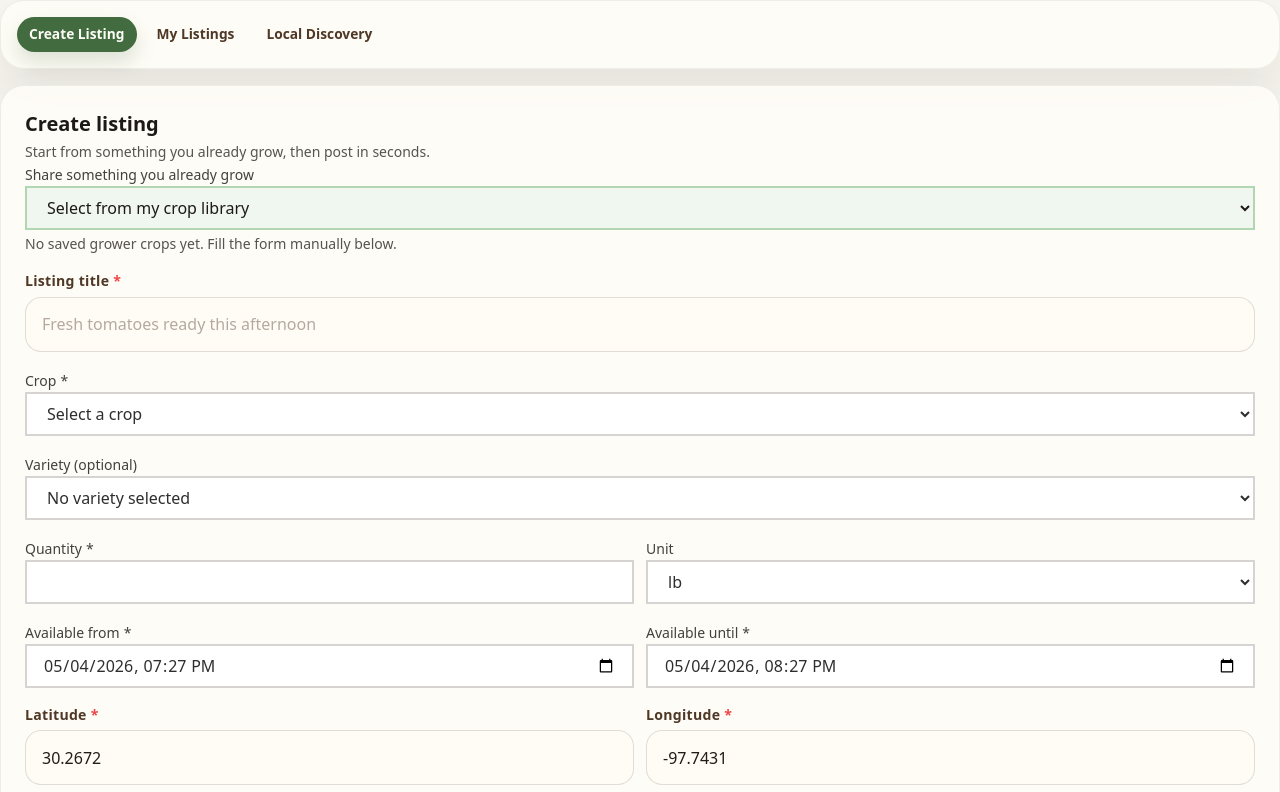
Test: GrowerListingPanel › pre-seeds edit form from selected listing while detail query is loading
Click the tab "My Listings". click: (195, 34)
box: [144,17,246,52]
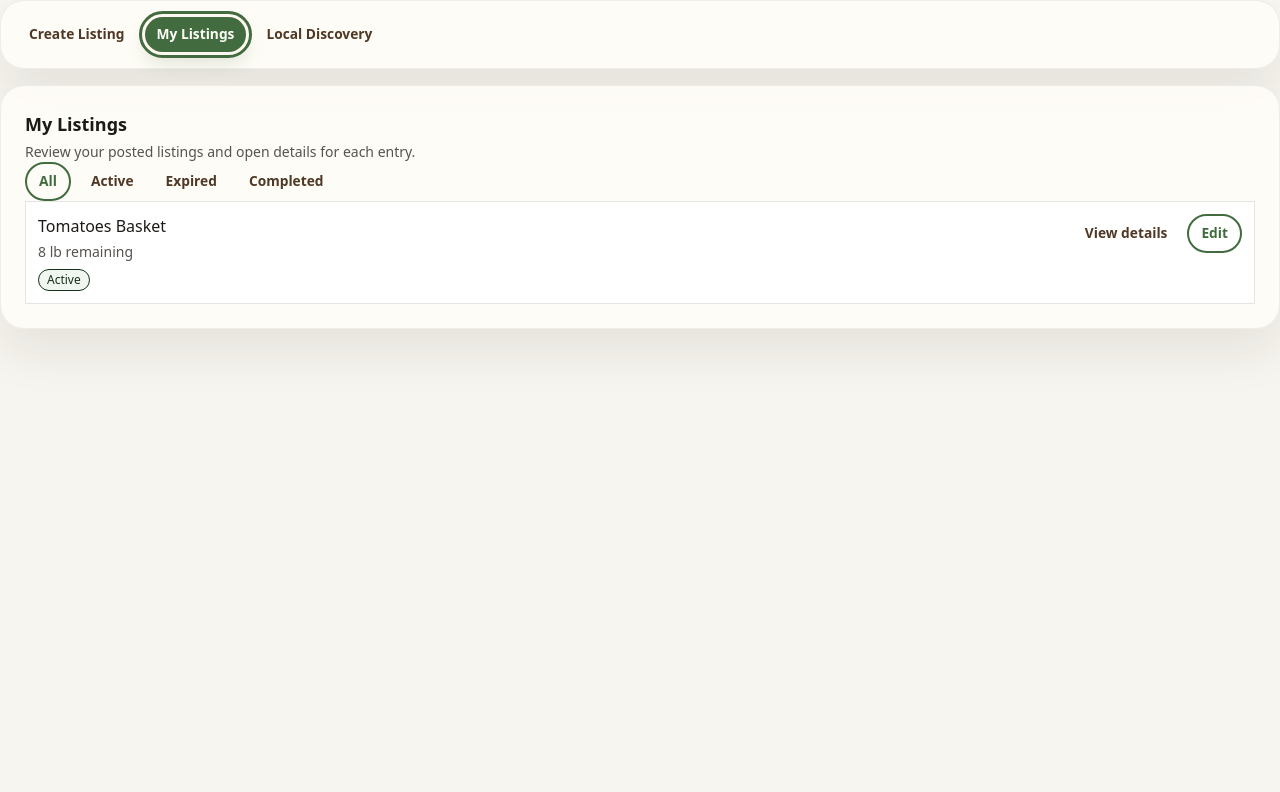
Expected: the text "Tomatoes Basket" is shown, [38,214,166,238]
Click the button "Edit". click: (1215, 234)
box: [1187,214,1242,253]
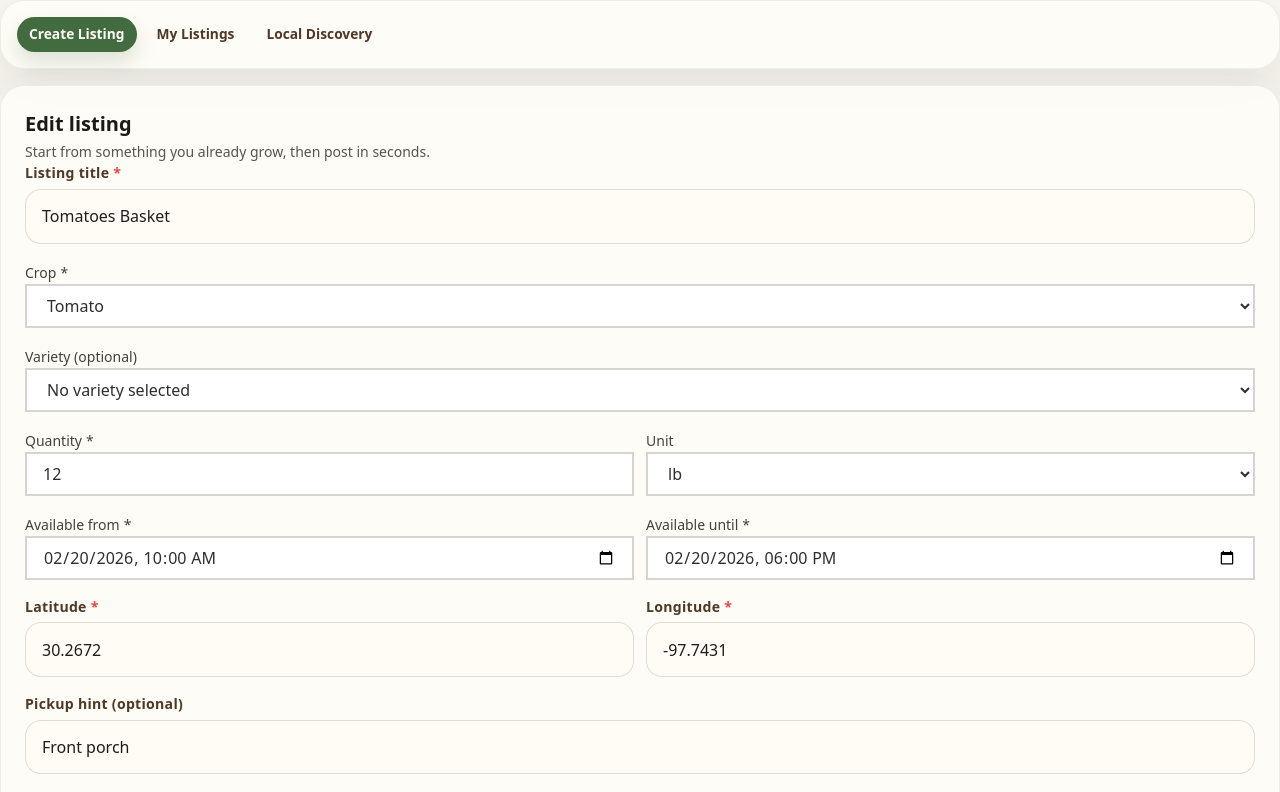
Expected: the heading "Edit listing" is shown, [25,110,132,137]
Expected: the field labelled "Listing title*" holds "Tomatoes Basket", [25,189,1255,244]
